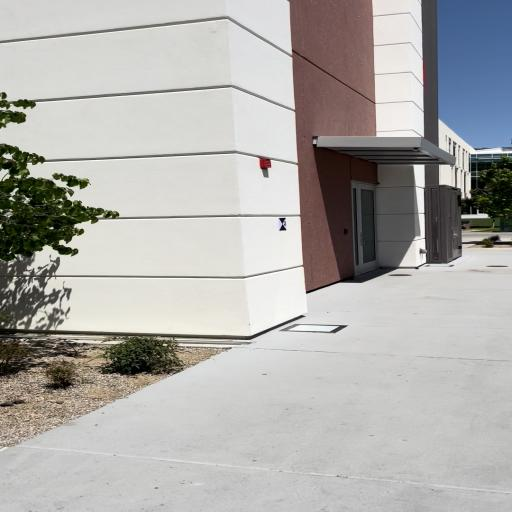target2: (278, 218, 287, 230)
